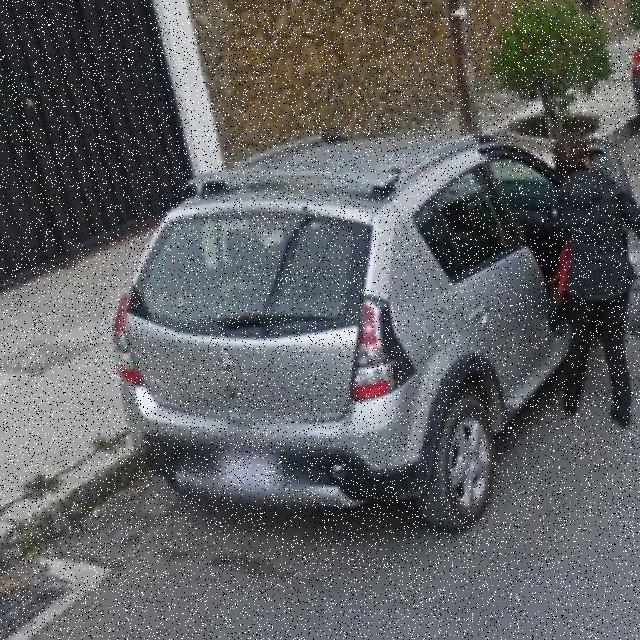cars: (115, 166, 615, 533)
